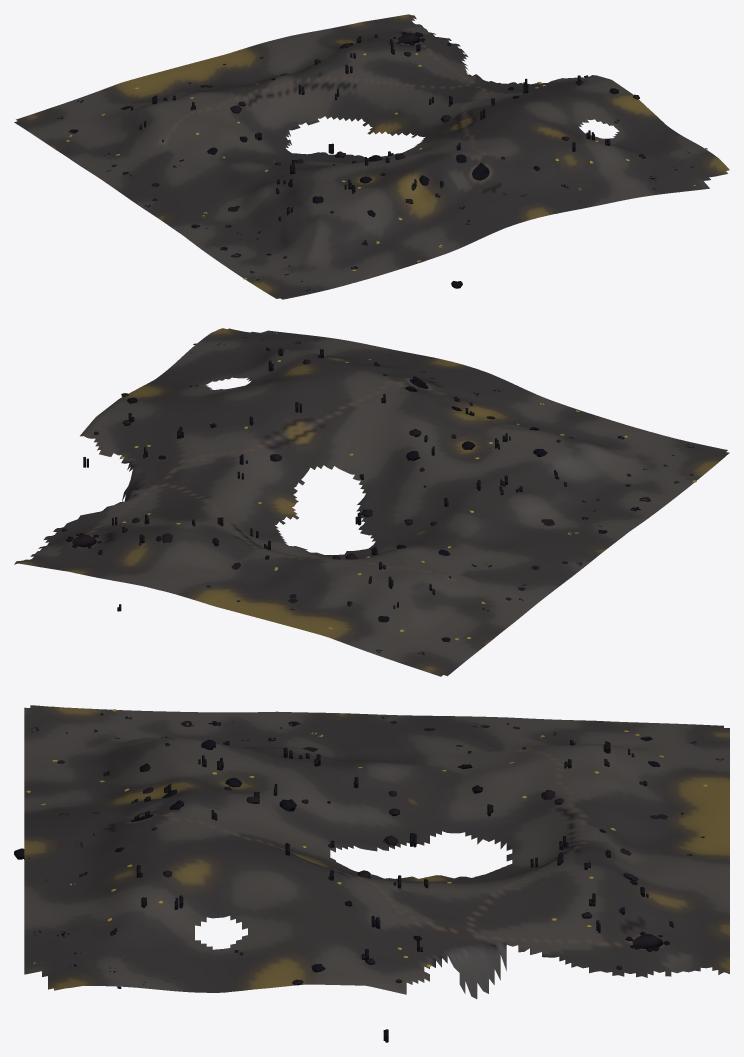
Rendered from ash_isl_obsidian_arch.glb.
The picture shows the model from 3 angles, top to bottom: view 1: azimuth 30°, elevation 25°; view 2: azimuth 150°, elevation 25°; view 3: azimuth 270°, elevation 25°; orthographic projection. The views are drawn at different scales.
Parts seen in each view (by area): view 1: ash_isl_obsidian_arch; view 2: ash_isl_obsidian_arch; view 3: ash_isl_obsidian_arch.
Part boxes in pixels (x1,y1,x2,y2): ash_isl_obsidian_arch: (14,14,729,299); ash_isl_obsidian_arch: (14,328,729,676); ash_isl_obsidian_arch: (14,705,729,1042).
Size of the model in its own units: 242 by 36.81 by 244.
